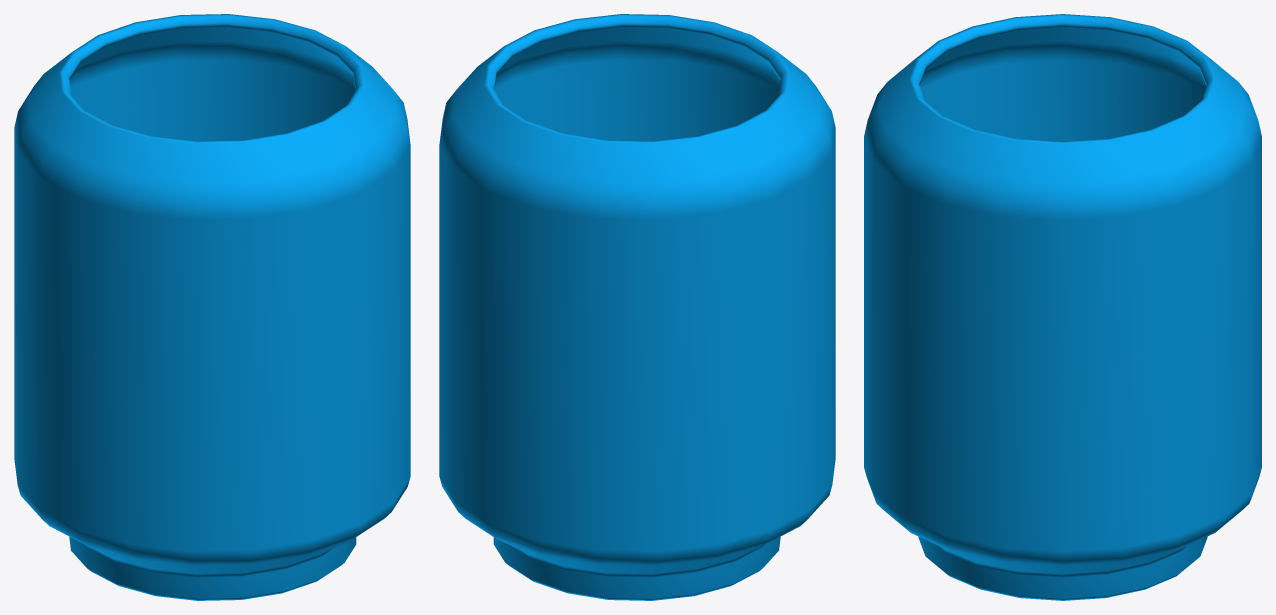
File: Town_19_Vase_3.glb
The picture shows the model from 3 angles, left to right: view 1: azimuth 30°, elevation 25°; view 2: azimuth 150°, elevation 25°; view 3: azimuth 270°, elevation 25°; orthographic projection.
Parts seen in each view (by area): view 1: Town_19_Vase_3; view 2: Town_19_Vase_3; view 3: Town_19_Vase_3.
Boxes of the visible parts, left/top/right/bottom form: Town_19_Vase_3: left=14, top=14, right=410, bottom=600; Town_19_Vase_3: left=439, top=14, right=835, bottom=600; Town_19_Vase_3: left=864, top=14, right=1261, bottom=600.
Size of the model in its own units: 0.5009 by 0.6428 by 0.5009.
1 material, 1 textured.
